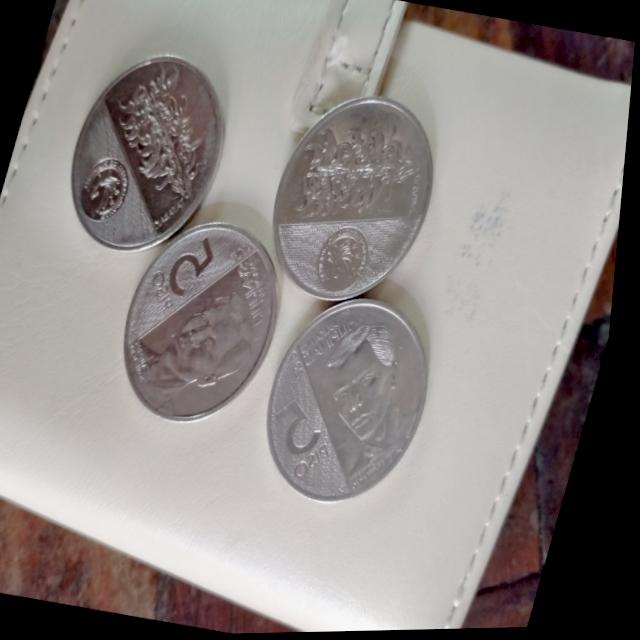5_New_Back: (272, 103, 445, 254), (106, 39, 245, 217)
5_New_Front: (142, 218, 233, 328), (265, 387, 356, 491)
